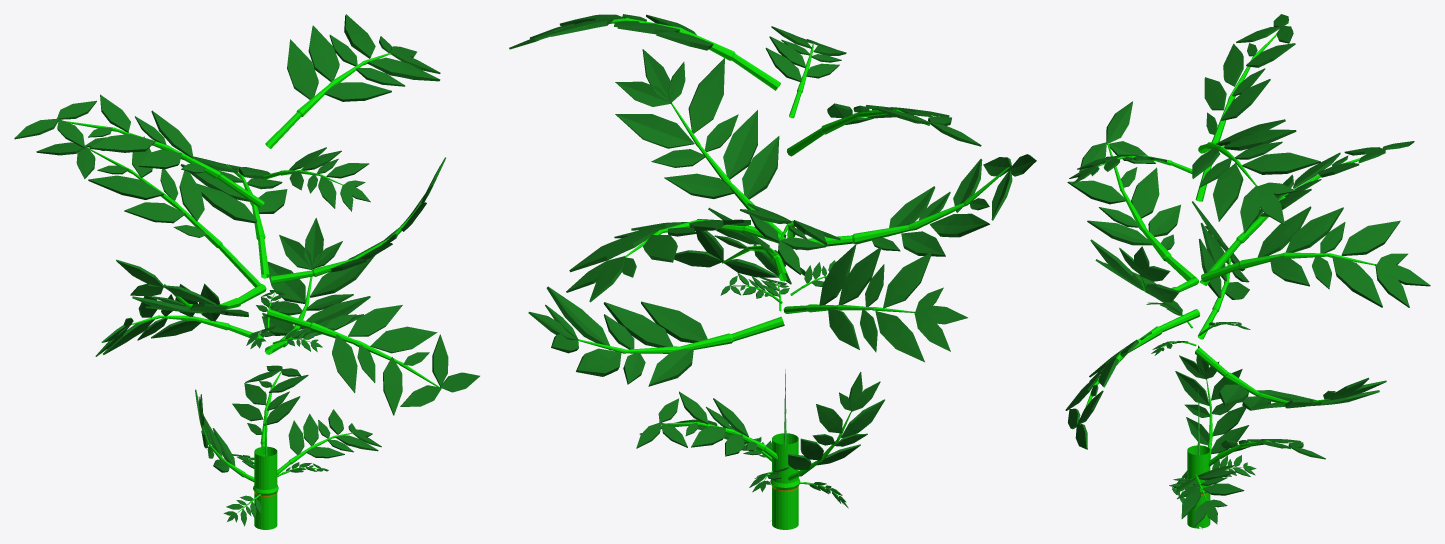
File: Bamboo.gltf
The picture shows the model from 3 angles, left to right: view 1: azimuth 30°, elevation 25°; view 2: azimuth 150°, elevation 25°; view 3: azimuth 270°, elevation 25°; orthographic projection. The views are drawn at different scales.
Parts seen in each view (by area): view 1: Circle.020, Circle.010, Circle.022, Circle.009, Circle.019, Circle.023, Circle.021, Circle.025, Circle.011, Circle.017, Circle.018, Circle (+3 smaller); view 2: Circle.024, Circle.019, Circle.021, Circle.025, Circle.023, Circle.001, Circle.017, Circle.010, Circle.020, Circle.009, Circle.011, Circle (+2 smaller); view 3: Circle.023, Circle.010, Circle.025, Circle.009, Circle.001, Circle.019, Circle.022, Circle.024, Circle.020, Circle.021, Circle.018, Circle (+3 smaller).
Part boxes in pixels (x1,y1,x2,y2): Circle.020: (266,305,479,415); Circle.010: (265,14,440,148); Circle.022: (36,136,261,287); Circle.009: (14,94,264,207); Circle.019: (262,218,375,354); Circle.023: (180,156,287,278); Circle.021: (95,283,263,356); Circle.025: (116,259,266,317); Circle.011: (263,147,370,211); Circle.017: (232,365,308,456); Circle.018: (277,409,381,474); Circle: (253,446,278,529); Circle.024: (615,49,786,239); Circle.019: (528,286,784,386); Circle.021: (783,245,967,362); Circle.025: (795,154,1036,256); Circle.023: (566,219,783,302); Circle.001: (788,372,884,480); Circle.017: (636,391,777,460); Circle.010: (509,14,780,90); Circle.020: (674,207,805,284); Circle.009: (787,103,981,156); Circle.011: (765,26,846,118); Circle: (770,433,800,529); Circle.023: (1201,206,1430,307); Circle.010: (1192,119,1320,233); Circle.025: (1067,101,1196,280); Circle.009: (1195,14,1295,201); Circle.001: (1175,345,1248,459); Circle.019: (1195,347,1386,410); Circle.022: (1200,141,1414,285); Circle.024: (1090,239,1198,314); Circle.020: (1065,309,1199,449); Circle.021: (1192,201,1249,339); Circle.018: (1175,465,1244,526); Circle: (1187,445,1210,528).
Bounding box in the file's own units: 40.7 × 42.11 × 31.64.
